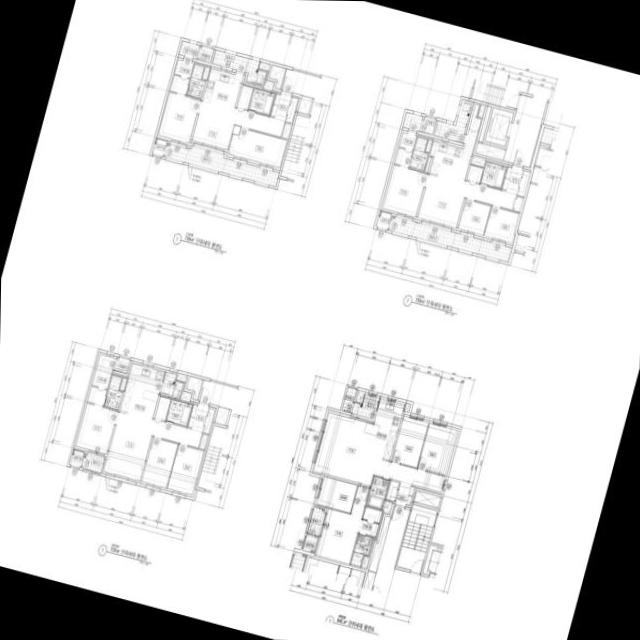background: (0, 0, 640, 640)
space_balconi: (388, 215, 511, 261), (163, 142, 278, 186), (211, 49, 265, 85), (433, 99, 472, 142), (351, 394, 379, 422), (159, 371, 183, 399), (307, 506, 324, 535), (80, 452, 104, 472), (177, 40, 198, 58)
space_bedroom: (315, 485, 369, 564), (227, 127, 286, 167), (382, 164, 426, 216), (75, 402, 117, 454), (157, 91, 199, 142), (417, 423, 456, 474), (166, 444, 203, 494), (140, 437, 177, 487), (391, 416, 427, 467), (483, 206, 518, 242), (457, 199, 490, 234)
space_dressroom: (87, 354, 114, 405), (169, 58, 193, 94), (394, 130, 416, 166), (358, 506, 382, 536)
space_elevator: (484, 107, 513, 146)
space_elevator_hall: (502, 94, 546, 167)
space_front: (269, 91, 297, 122), (501, 164, 522, 194), (187, 402, 208, 431), (394, 481, 414, 506)
space_kitchen: (428, 104, 480, 180), (119, 363, 164, 418), (365, 398, 404, 460), (202, 68, 243, 107)
space_living_room: (313, 412, 444, 492), (103, 411, 201, 480), (417, 171, 516, 227), (191, 98, 284, 149)
space_multipurpose_space: (316, 476, 356, 512)
space_other: (367, 515, 390, 572), (402, 111, 435, 134), (474, 142, 505, 160), (477, 105, 491, 141), (413, 490, 440, 507), (185, 375, 202, 400), (153, 396, 170, 420), (268, 64, 284, 89), (236, 85, 252, 109), (341, 387, 355, 412), (517, 170, 529, 196), (202, 408, 214, 433), (196, 45, 213, 62), (466, 164, 482, 182), (214, 406, 229, 425), (385, 480, 398, 501), (113, 356, 129, 373), (297, 95, 311, 114), (512, 196, 523, 212), (198, 433, 207, 449), (281, 122, 290, 138), (470, 156, 484, 166), (179, 391, 190, 402), (381, 500, 391, 512), (258, 61, 269, 71), (424, 156, 431, 171), (201, 66, 209, 79), (360, 555, 368, 568), (262, 81, 272, 91), (119, 377, 126, 390), (424, 139, 431, 152), (355, 392, 363, 402), (477, 105, 483, 117), (175, 374, 185, 381), (403, 404, 408, 411)
space_outdoor_room: (302, 534, 317, 552), (151, 138, 166, 156), (68, 449, 83, 466)
space_staircase: (396, 504, 436, 572)
space_toilet: (365, 475, 388, 509), (349, 534, 372, 567), (479, 161, 506, 188), (165, 398, 191, 426), (248, 88, 274, 115), (103, 374, 122, 409), (185, 64, 204, 98), (409, 136, 428, 170)
